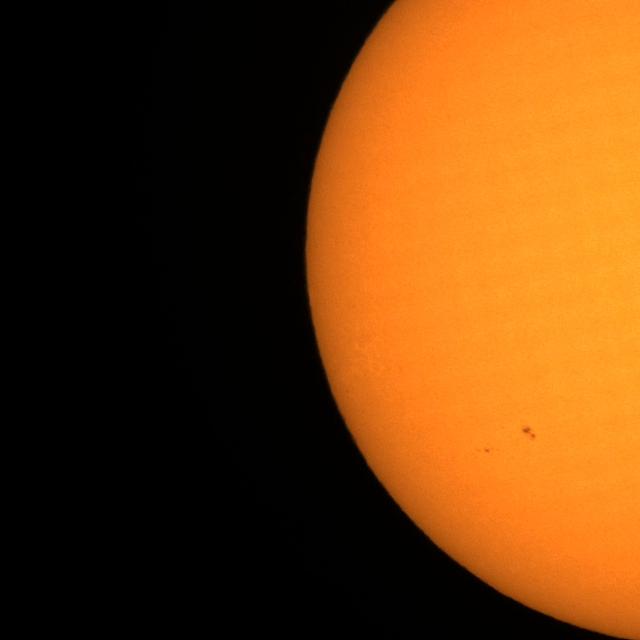sunspot: (521, 426, 537, 440), (474, 446, 490, 455)
